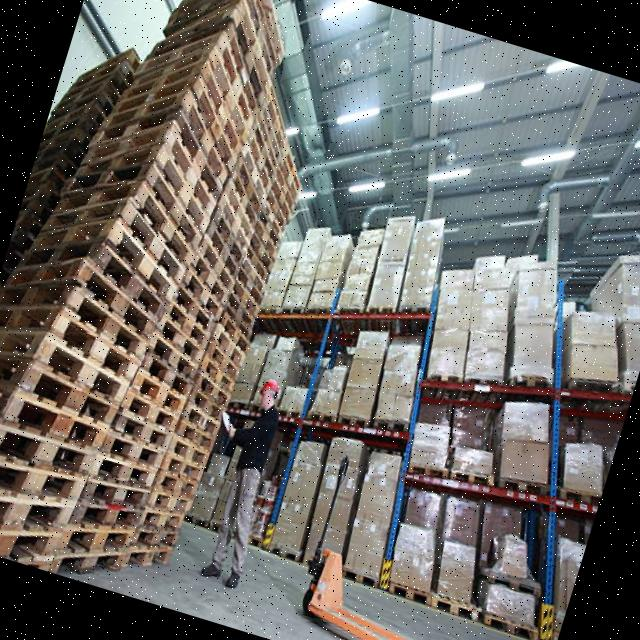Wooden-Pallets: (102, 209, 181, 306), (0, 420, 98, 480), (0, 488, 80, 530), (193, 229, 238, 296), (110, 405, 174, 450), (380, 572, 439, 614), (475, 609, 547, 640), (429, 591, 480, 622), (402, 460, 447, 486), (334, 413, 369, 443)
